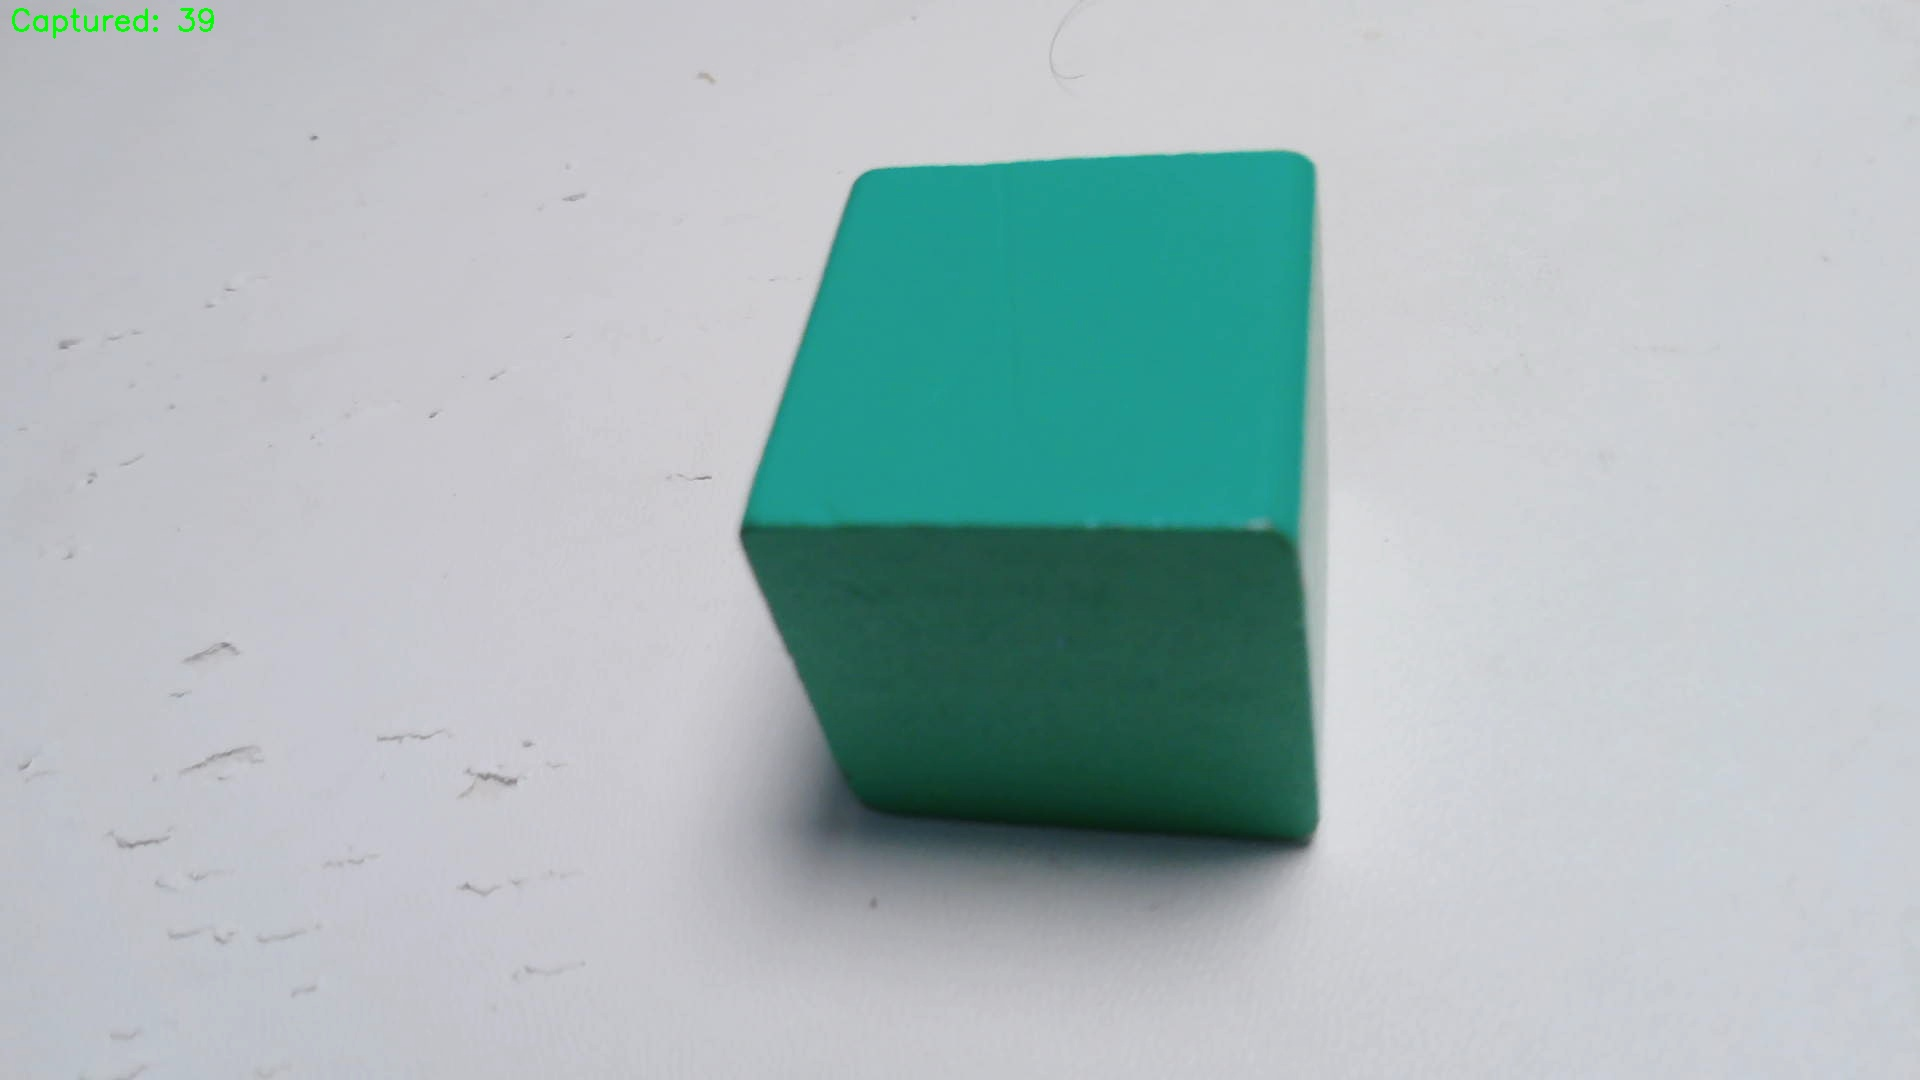green: (748, 161, 1331, 844)
